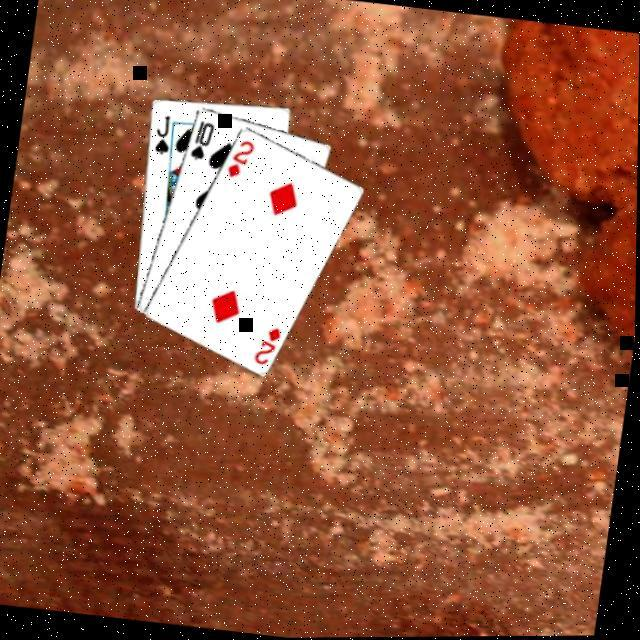10S: (184, 114, 216, 162)
2D: (248, 319, 284, 366), (222, 132, 256, 180)
JS: (148, 109, 174, 155)
